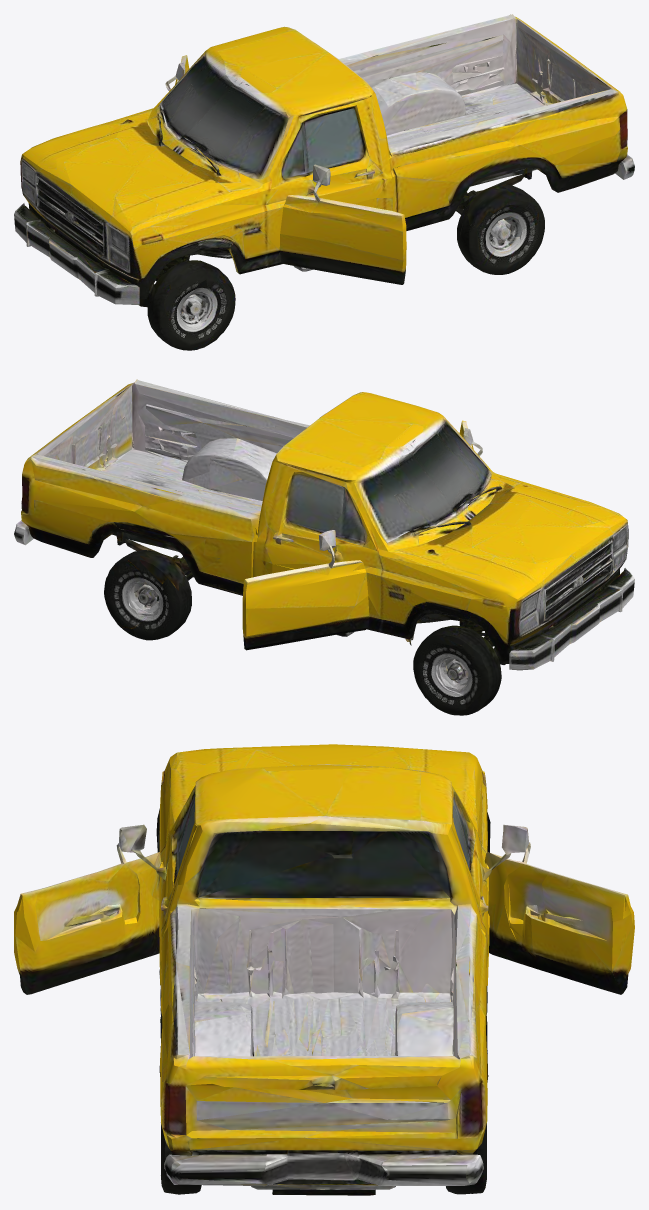
Rendered from camioneta-higgsfield-opt.glb.
3 views of the same model, one above another, from view 1: azimuth 30°, elevation 25°; view 2: azimuth 150°, elevation 25°; view 3: azimuth 270°, elevation 25° (orthographic). The views are drawn at different scales.
Parts seen in each view (by area): view 1: Mesh_0; view 2: Mesh_0; view 3: Mesh_0.
Part boxes in pixels (bbox=[...]): Mesh_0: bbox=[14, 14, 634, 350]; Mesh_0: bbox=[14, 379, 634, 715]; Mesh_0: bbox=[14, 744, 634, 1195].
Bounding box in the file's own units: 1.9 × 0.7301 × 1.41.
Materials: 1 (1 with a texture image).
